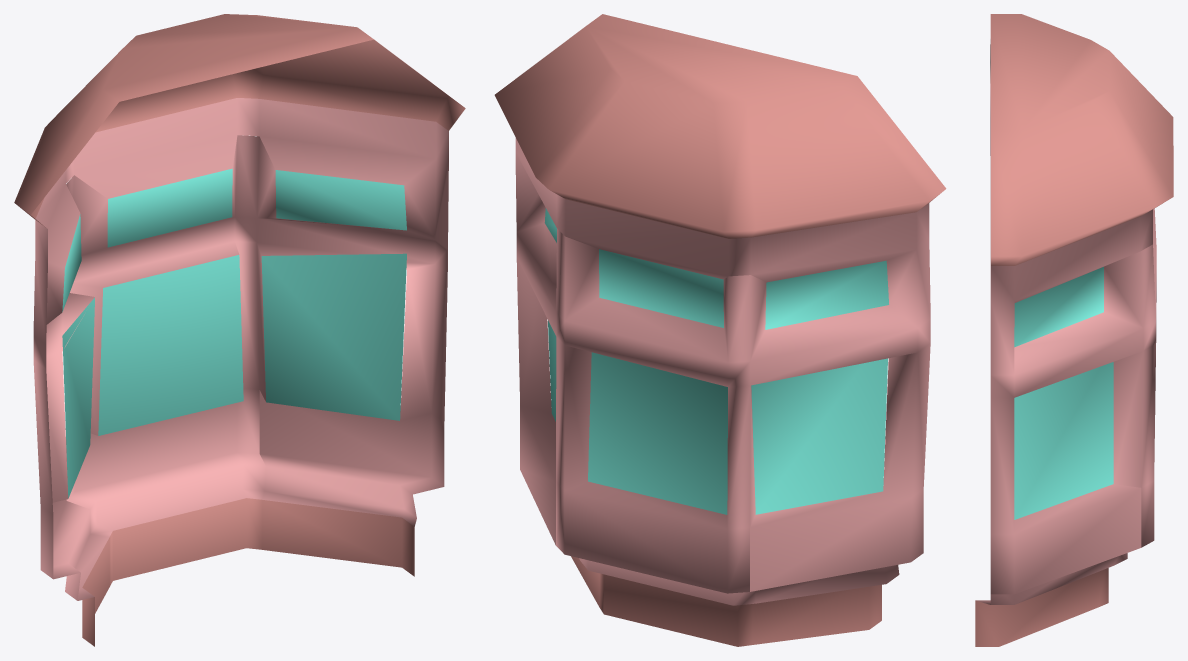
Rendered from Building_B_4.fbx.
The picture shows the model from 3 angles, left to right: view 1: azimuth 30°, elevation 25°; view 2: azimuth 150°, elevation 25°; view 3: azimuth 270°, elevation 25°; orthographic projection. The views are drawn at different scales.
Parts seen in each view (by area): view 1: Building_B_4; view 2: Building_B_4; view 3: Building_B_4.
Part boxes in pixels (bbox=[...]): Building_B_4: bbox=[14, 14, 465, 646]; Building_B_4: bbox=[494, 14, 946, 646]; Building_B_4: bbox=[975, 14, 1173, 646].
Size of the model in its own units: 232 by 275 by 98.24.
